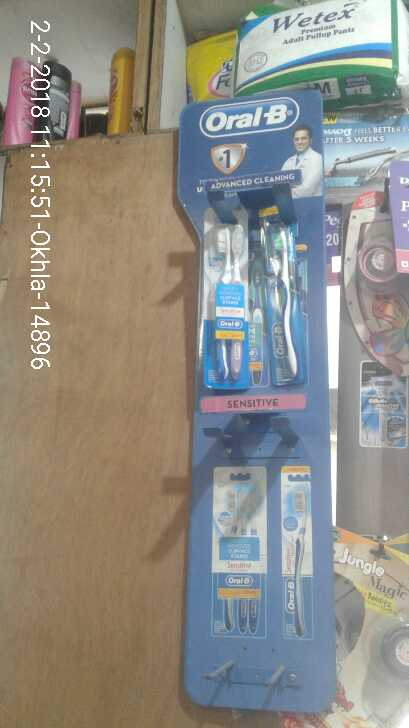oralb: (201, 224, 253, 392), (259, 227, 310, 389)
